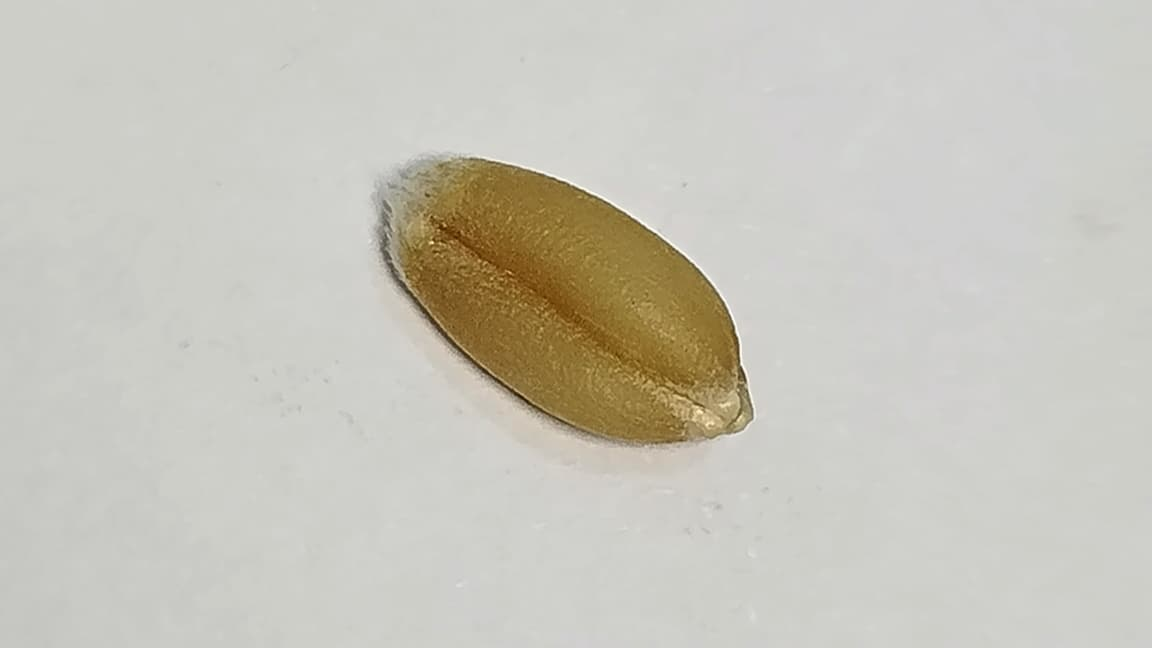healthy: (381, 157, 752, 443)
